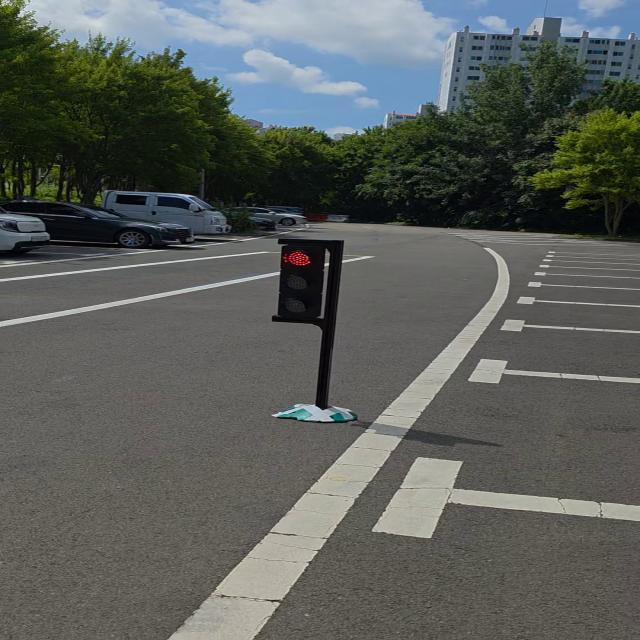red: (264, 237, 334, 325)
